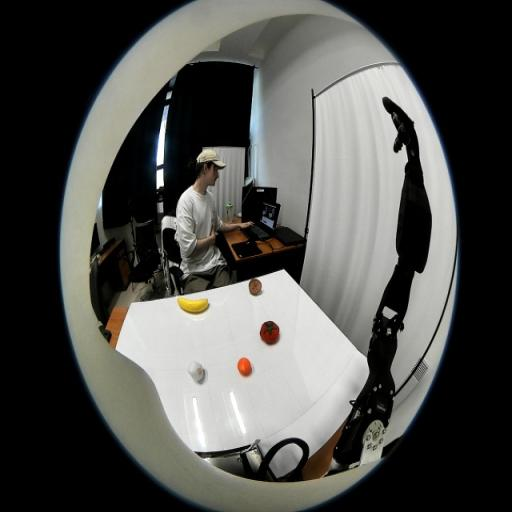Banana: (177, 297, 208, 313)
Mushroom: (248, 279, 262, 296)
Onion: (186, 360, 204, 382)
Orange: (237, 357, 251, 376)
RightHand: (405, 126, 419, 161)
Tomato: (260, 321, 279, 344)
